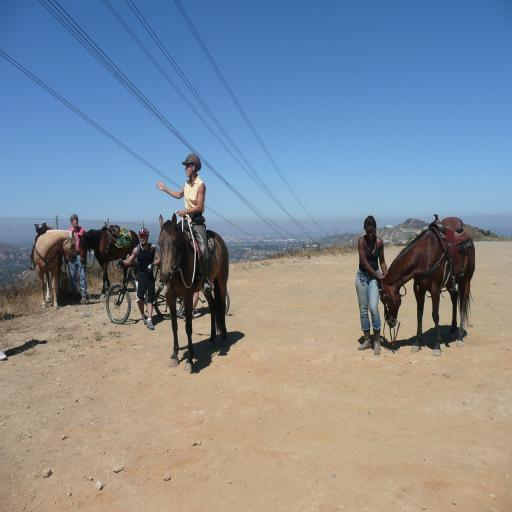horse: (378, 228, 476, 356), (156, 212, 228, 373), (77, 229, 141, 300), (32, 228, 78, 310)
